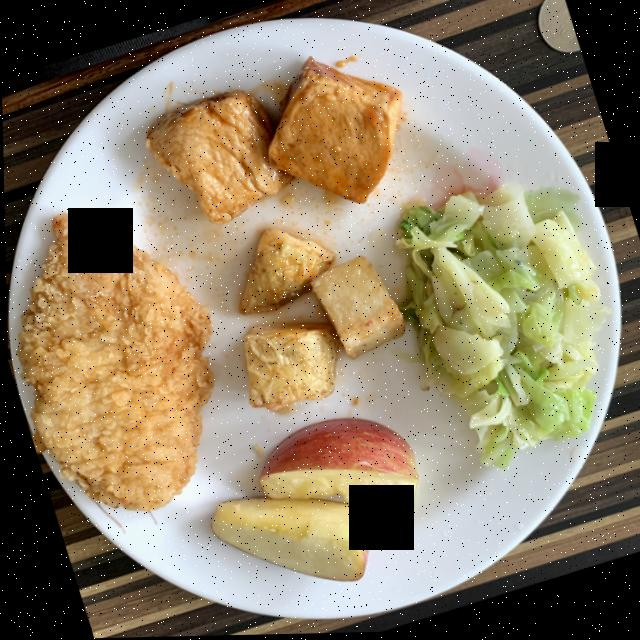apple -sliced-: (207, 419, 414, 583)
cabbage: (396, 185, 608, 469)
coin: (537, 0, 580, 55)
creamy tofu: (144, 58, 401, 225)
fried chicken cutlet: (14, 213, 211, 511)
fried potato: (237, 229, 403, 412)
